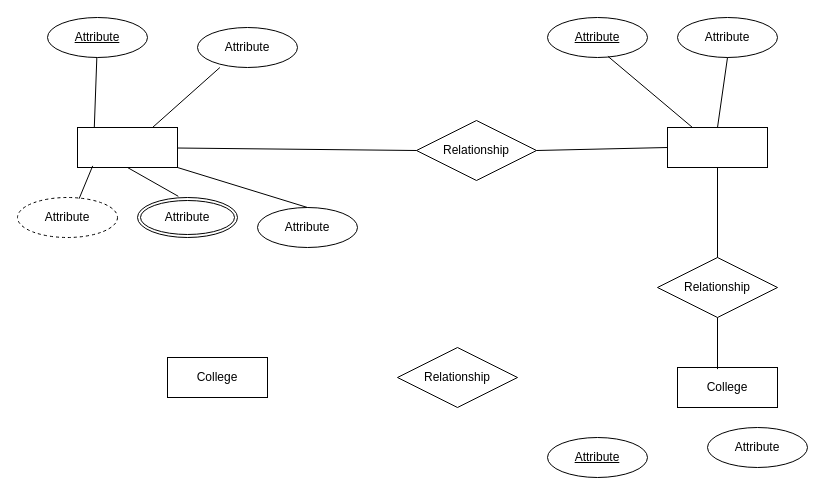
The diagram is 825 pixels wide and 495 high, and some of its shapes have lost their labels. The shapes that lost their labels are listed below. From the top down, each one's box as (x1, y1, x2, y2) in pixels, then its label:
(76, 126, 178, 168): Student
(666, 126, 768, 168): Course
